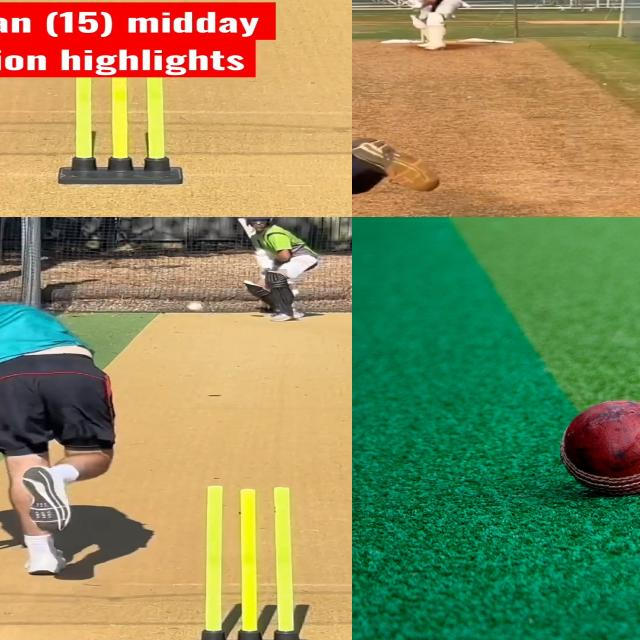Cricket ball: (560, 395, 640, 497), (184, 300, 205, 312)
Stumps: (183, 483, 316, 640)
